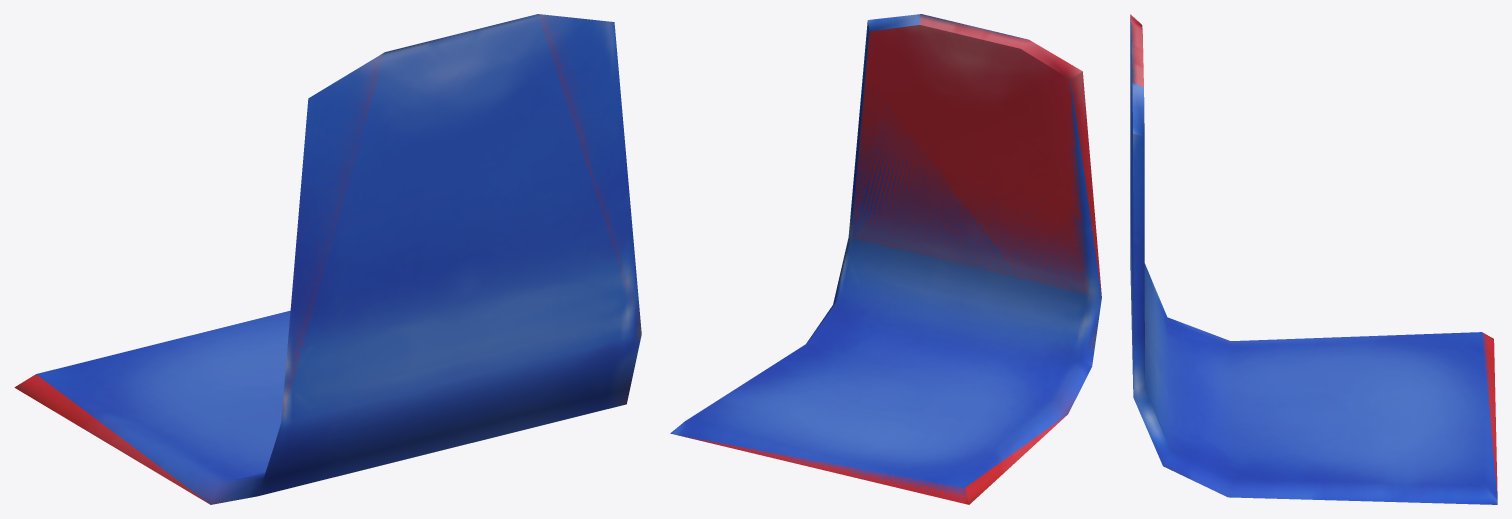
Rendered from Chair.fbx.
The picture shows the model from 3 angles, left to right: view 1: azimuth 30°, elevation 25°; view 2: azimuth 150°, elevation 25°; view 3: azimuth 270°, elevation 25°; orthographic projection. The views are drawn at different scales.
Parts seen in each view (by area): view 1: char_public_B1, char_public_R1_1; view 2: char_public_B1, char_public_R1_1; view 3: char_public_B1, char_public_R1_1.
Part boxes in pixels (box(x1,y1,x2,y2)): char_public_B1: box(36, 14, 641, 504); char_public_R1_1: box(14, 14, 639, 503); char_public_B1: box(670, 14, 1101, 498); char_public_R1_1: box(674, 14, 1101, 504); char_public_B1: box(1130, 15, 1497, 504); char_public_R1_1: box(1130, 14, 1497, 498).
Size of the model in its own units: 7.88 by 8.22 by 7.37.
